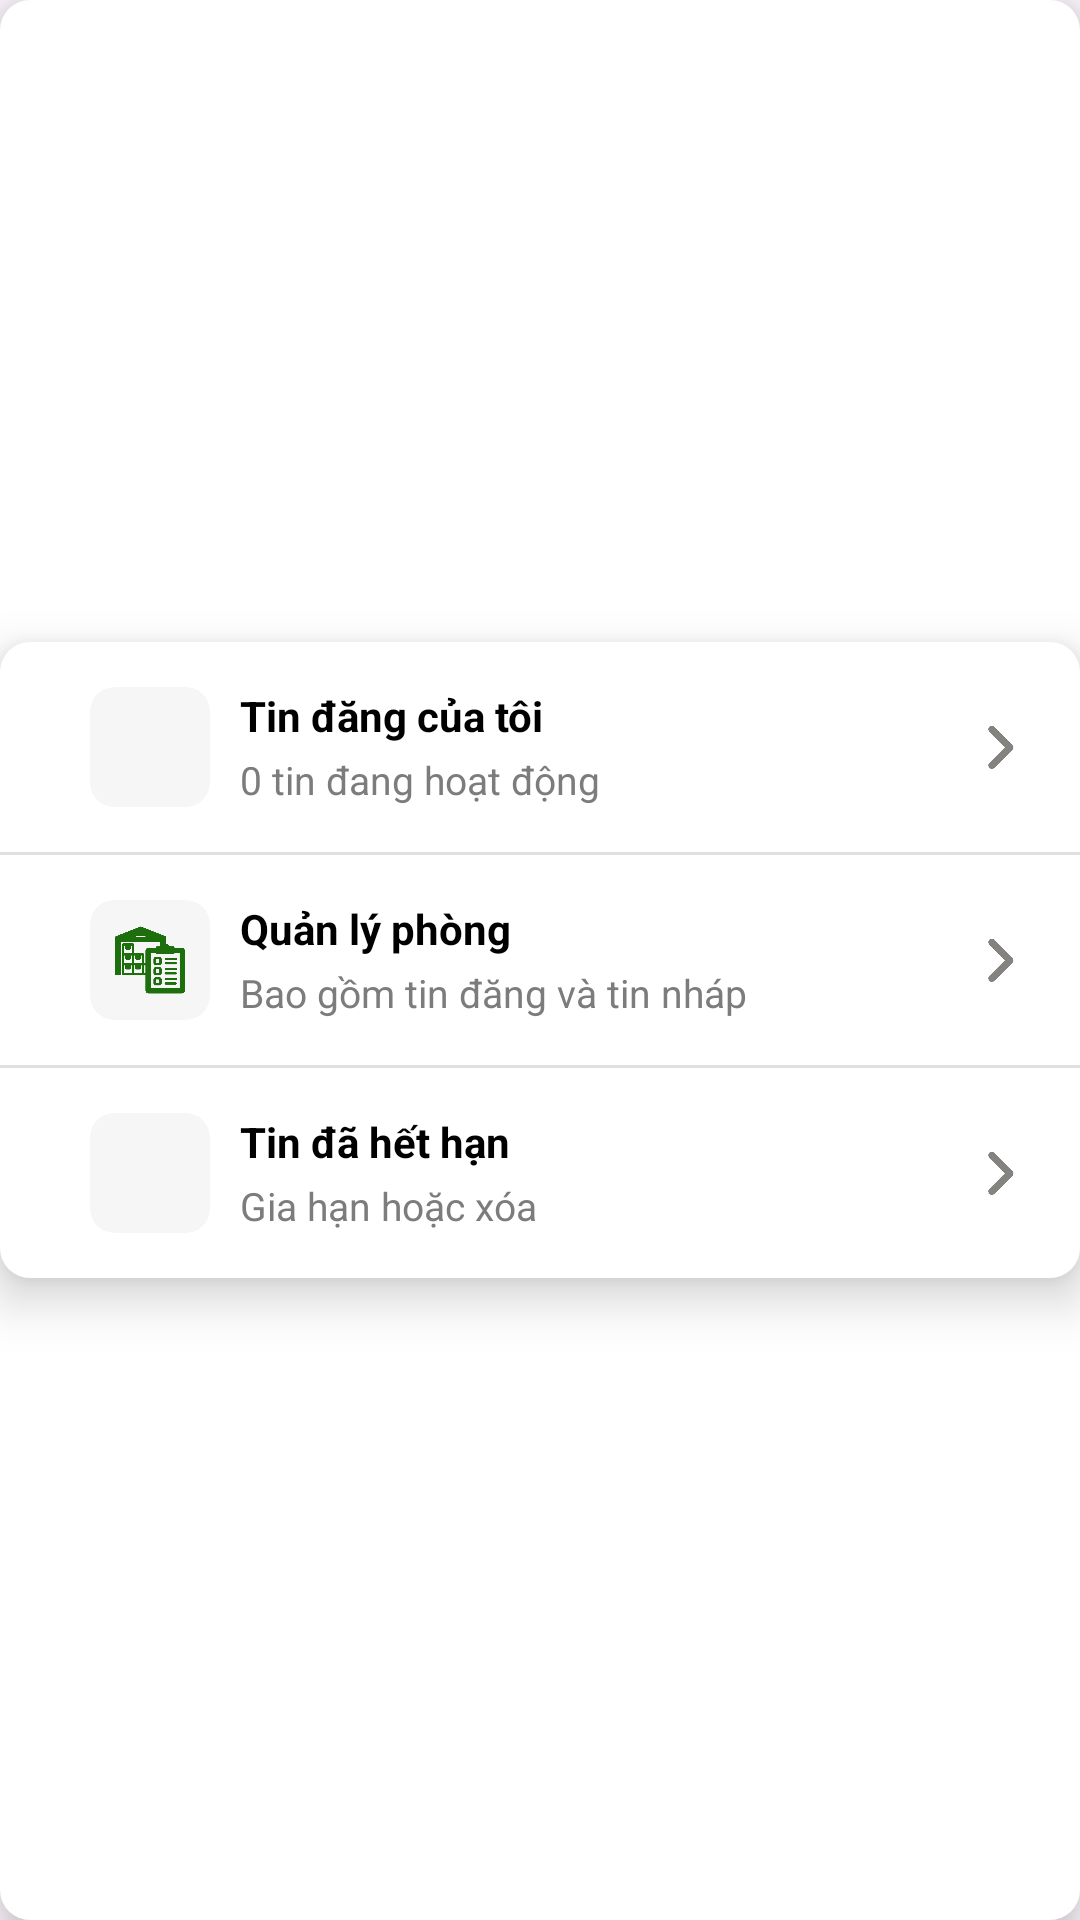

Where to tap for icons on this 1080px x 1920px app screen, as (x,y):
allroom: (150,960)
